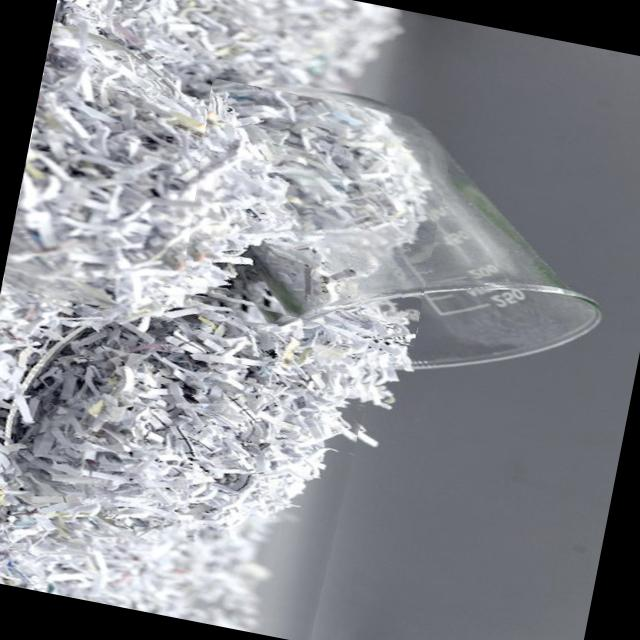PaperCardboard: (0, 0, 396, 631), (209, 81, 442, 324)
